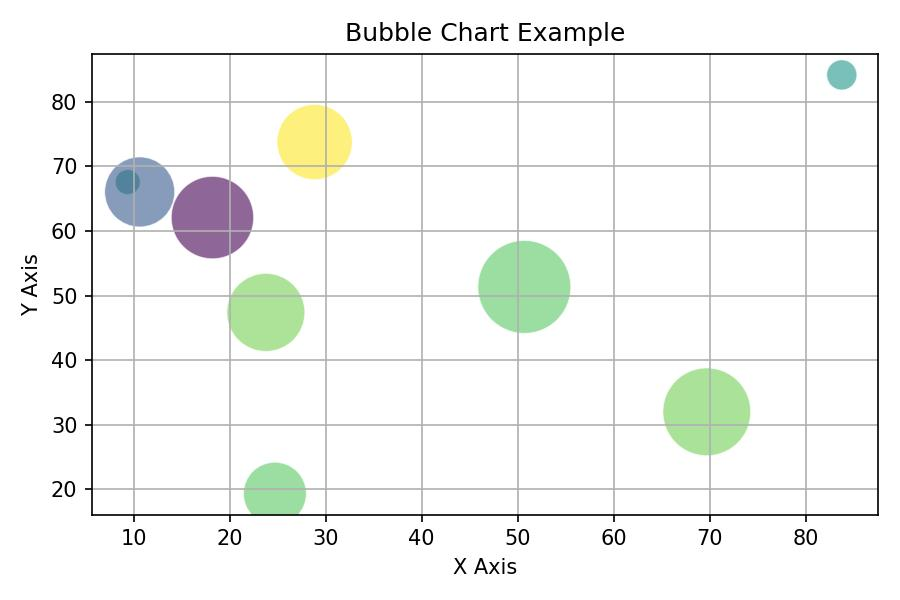axis: (85, 509, 883, 530), (73, 42, 104, 530)
circle: (475, 239, 573, 334), (661, 365, 753, 456), (171, 176, 257, 259), (276, 103, 354, 182), (228, 273, 306, 349), (106, 154, 175, 227), (244, 462, 308, 516), (826, 63, 854, 86)
